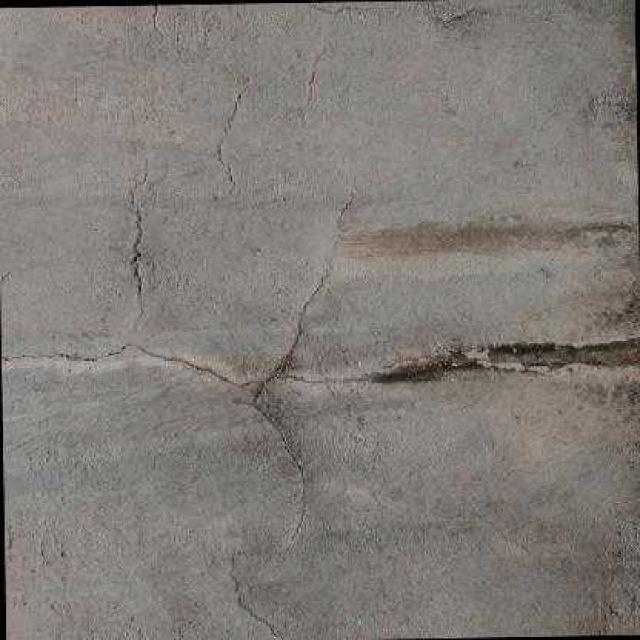D00: (1, 276, 361, 535), (127, 170, 150, 309)
